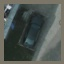car: (19, 16, 44, 47)
